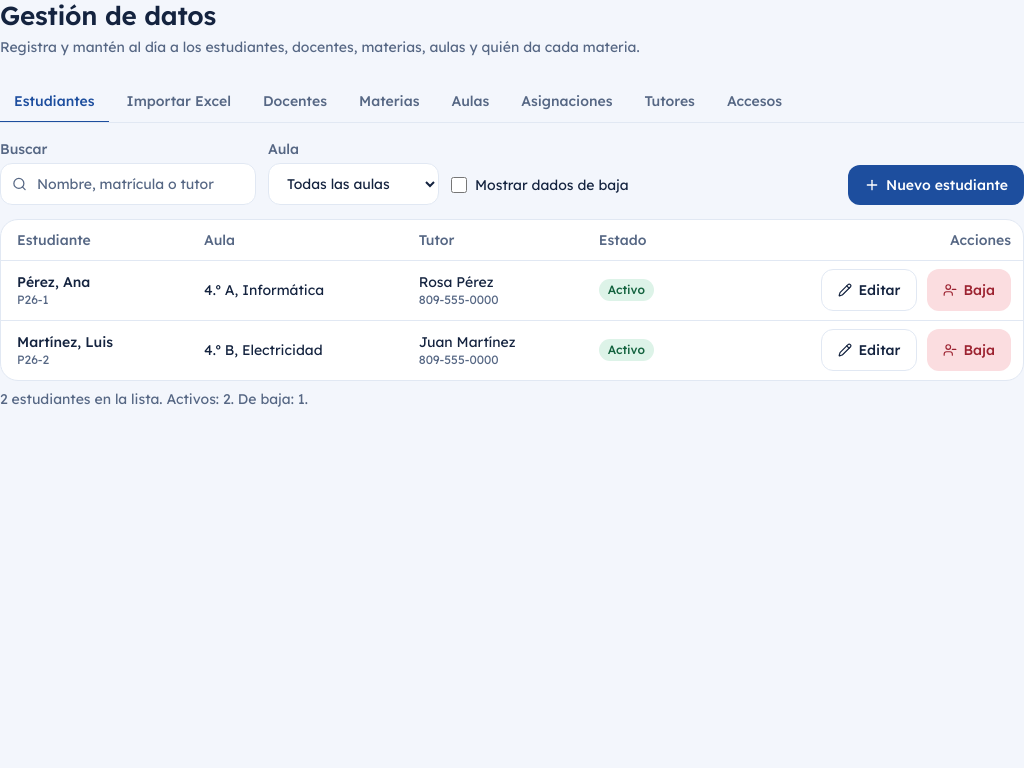
Scenario: Gestión de datos: estudiantes › no envía el formulario si faltan datos y muestra los errores
The width and height of the screenshot is (1024, 768).
Step 1. Click the button "Nuevo estudiante" → (936, 184), box [848, 164, 1023, 204]
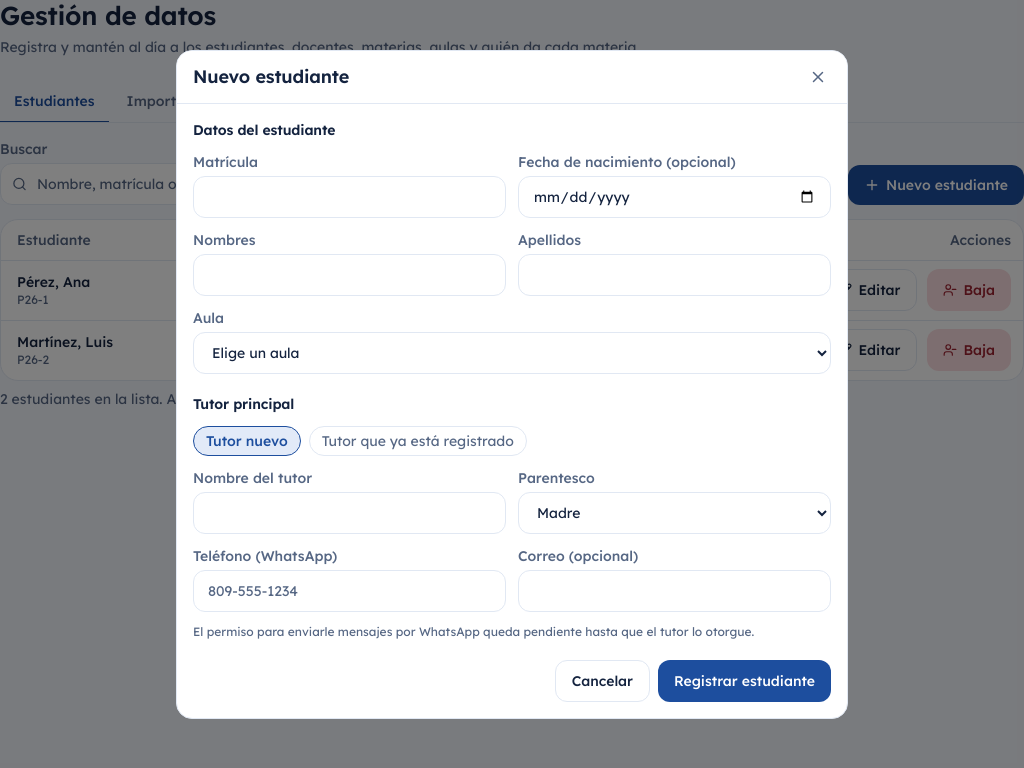
Step 2. Click the button "Registrar estudiante" → (744, 680), box [658, 660, 831, 702]
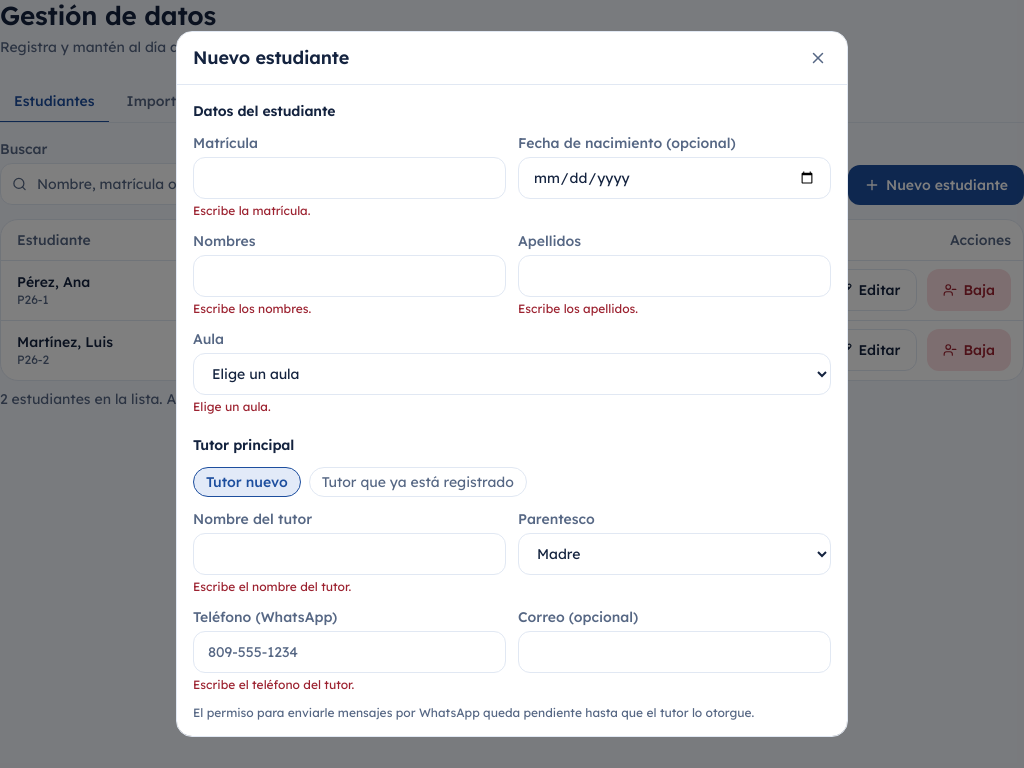
Result: the text "Escribe la matrícula." is shown at [193, 203, 310, 218]
Result: the text "Elige un aula." is shown at [193, 399, 271, 414]
Result: the text "Escribe el teléfono del tutor." is shown at [193, 677, 354, 692]
